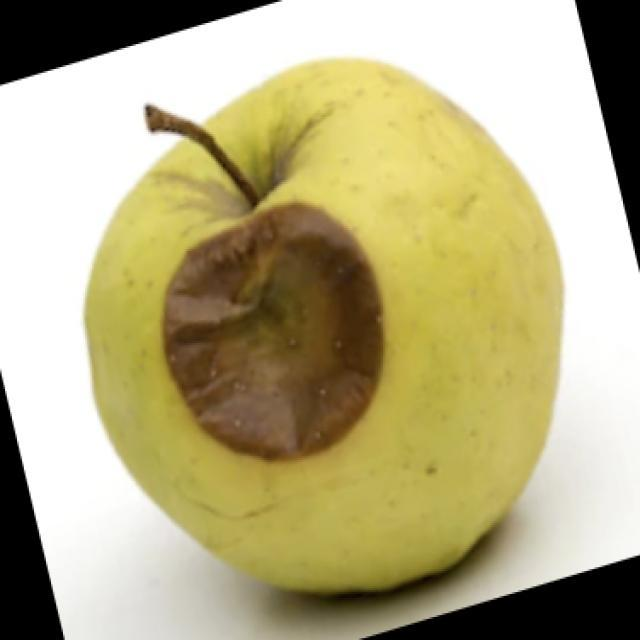Rotten: (53, 58, 550, 595)
